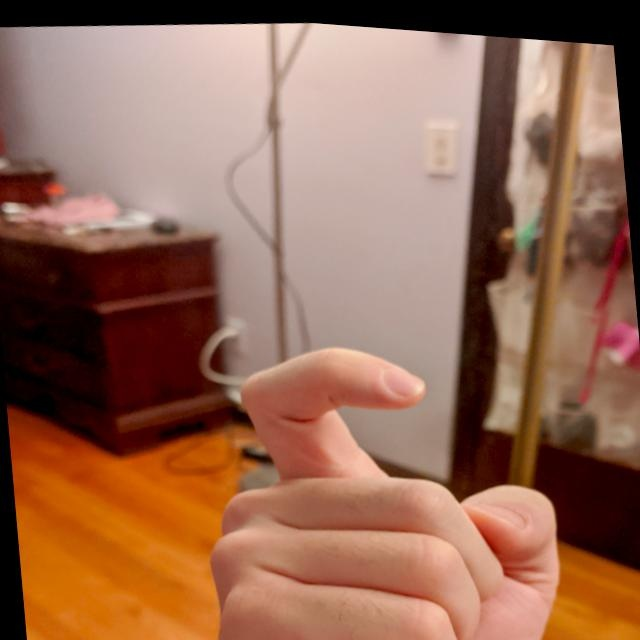X: (180, 308, 583, 639)
